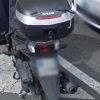Motorcycle: (4, 5, 84, 97)
